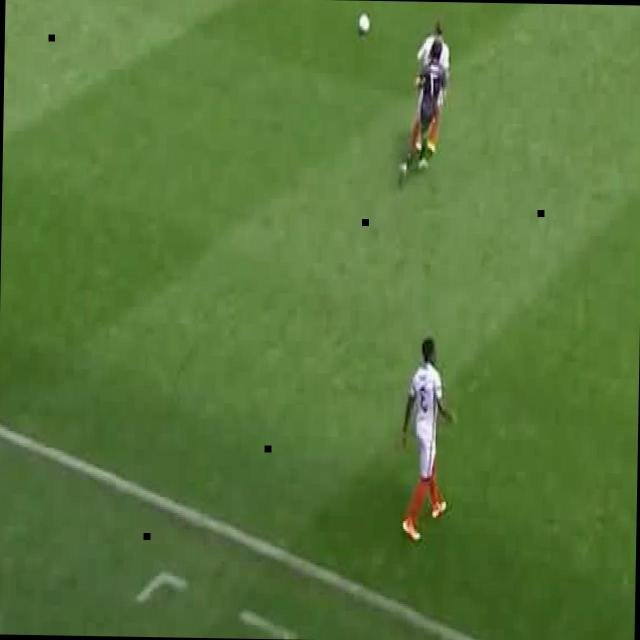ball: (359, 13, 370, 35)
player-white: (400, 334, 456, 542), (401, 40, 447, 175), (414, 19, 452, 157)
